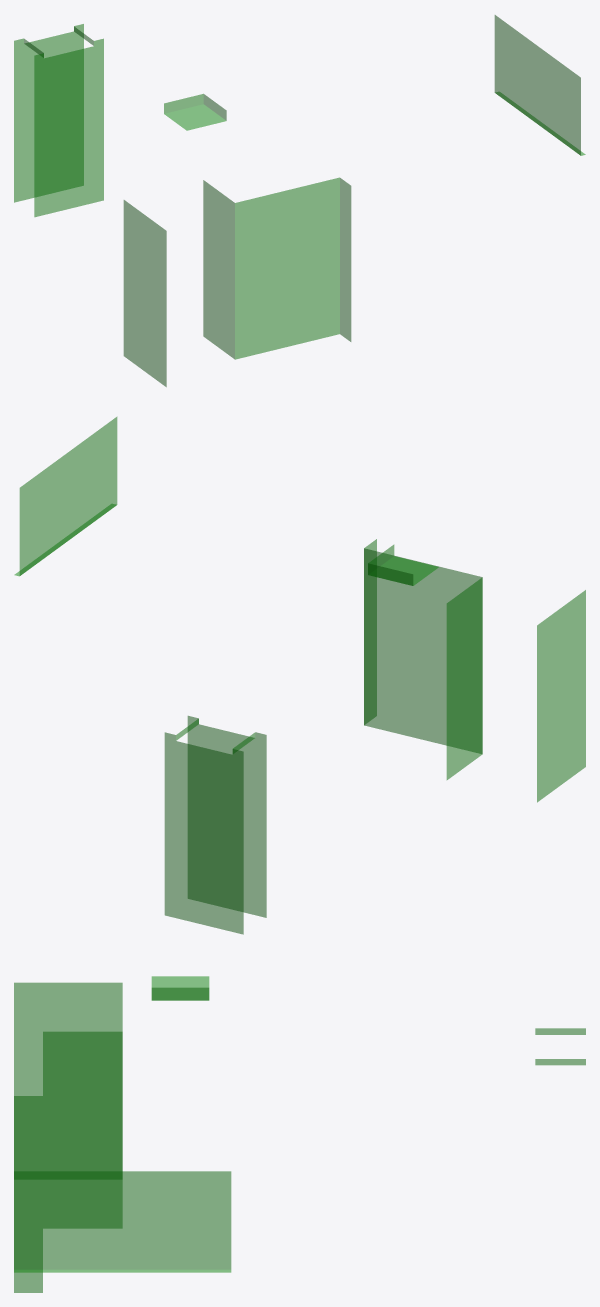
Rendered from D09_wall02.obj.
3 renders of one model, top to bottom at view 1: azimuth 30°, elevation 25°; view 2: azimuth 150°, elevation 25°; view 3: azimuth 270°, elevation 25°, orthographic. The views are drawn at different scales.
Bounding box in the file's own units: 84 × 40 × 79.
